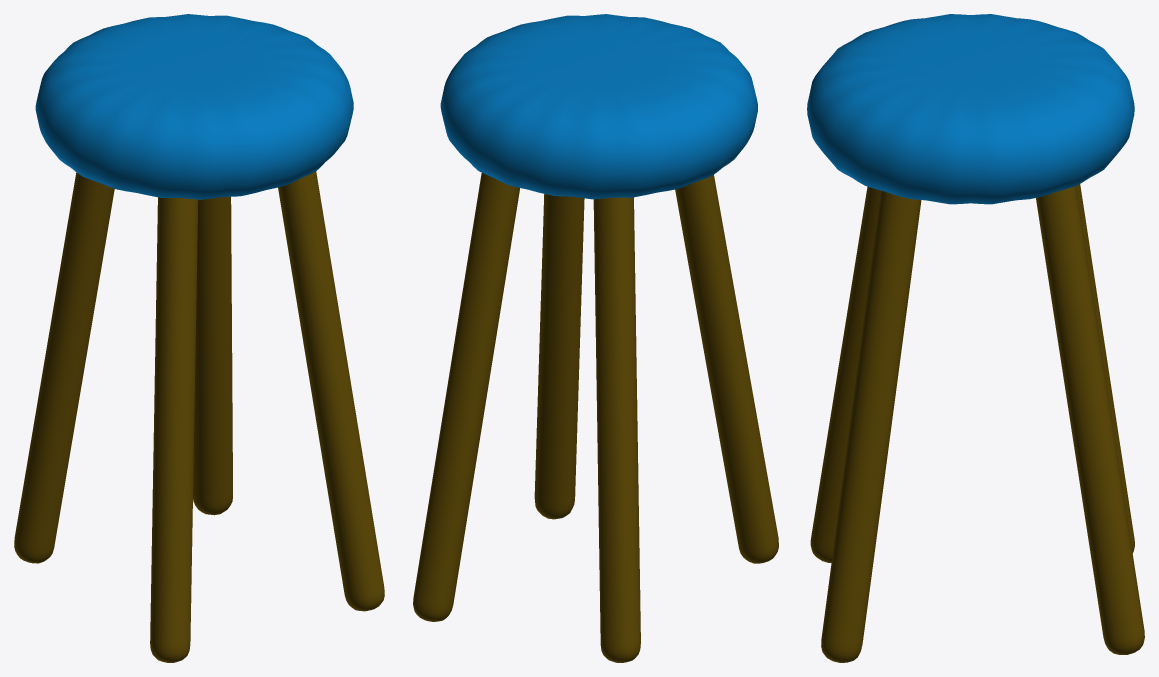
File: Stool.fbx
3 renders of one model, left to right at view 1: azimuth 30°, elevation 25°; view 2: azimuth 150°, elevation 25°; view 3: azimuth 270°, elevation 25°, orthographic. The views are drawn at different scales.
Parts seen in each view (by area): view 1: pCube10; view 2: pCube10; view 3: pCube10.
Part boxes in pixels (bbox=[...]): pCube10: bbox=[14, 14, 384, 662]; pCube10: bbox=[413, 14, 778, 662]; pCube10: bbox=[807, 14, 1144, 662].
Bounding box in the file's own units: 3.87 × 7.08 × 3.99.
